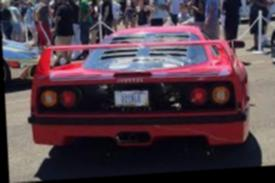License_Plate: (113, 91, 149, 105)
